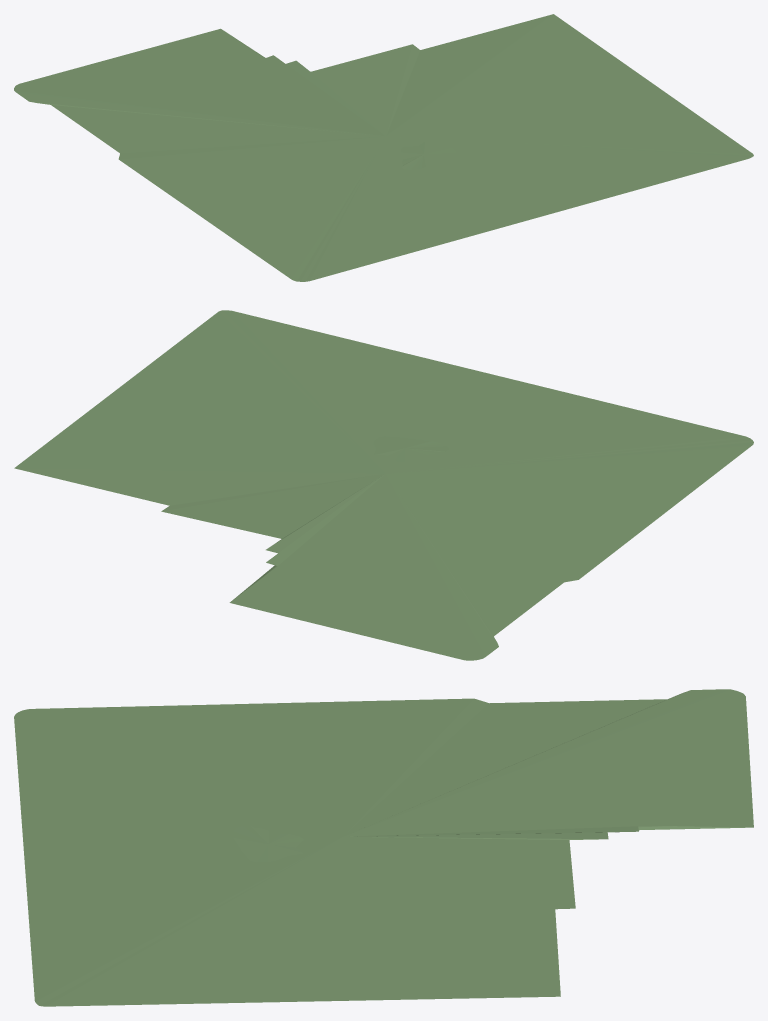
Rendered from c_1637_17827_parks.glb.
The picture shows the model from 3 angles, top to bottom: view 1: azimuth 30°, elevation 25°; view 2: azimuth 150°, elevation 25°; view 3: azimuth 270°, elevation 25°; orthographic projection. The views are drawn at different scales.
Visible parts, largest first — view 1: geometry_0; view 2: geometry_0; view 3: geometry_0.
Boxes of the visible parts, x1,y1,x2,y2 form: geometry_0: (14, 14, 753, 281); geometry_0: (14, 310, 753, 660); geometry_0: (14, 689, 753, 1006).
Size of the model in its own units: 224 by 4.88 by 218.
